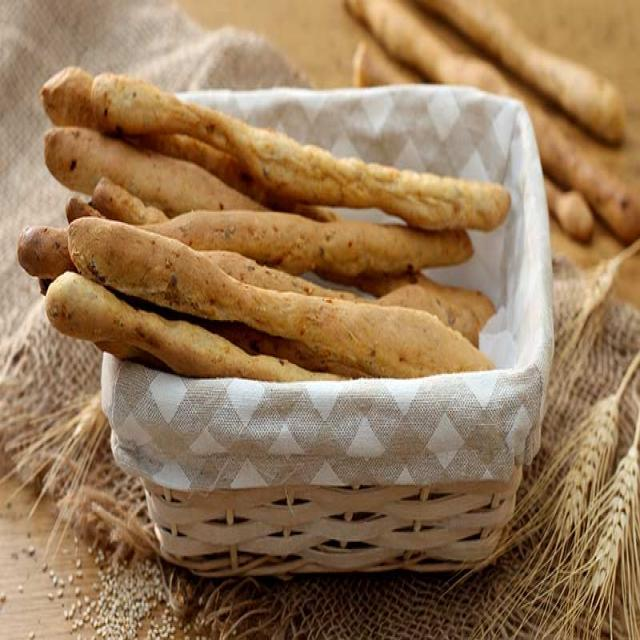Grissini: (18, 63, 512, 371)
